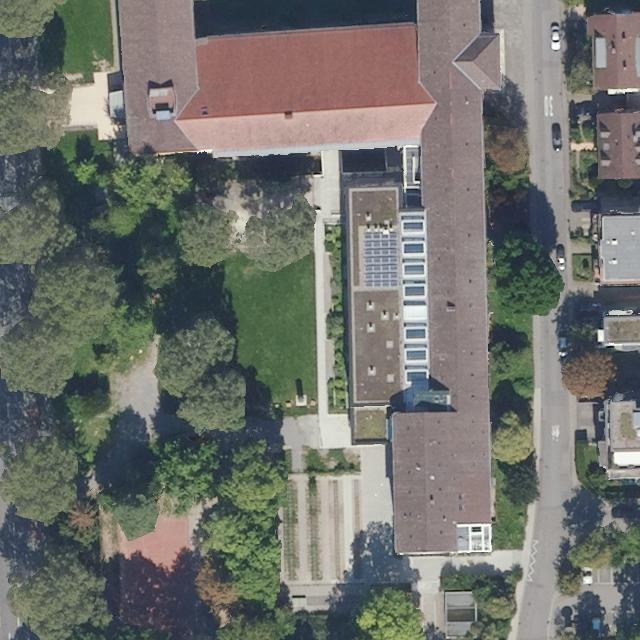PV: (361, 227, 400, 286)
